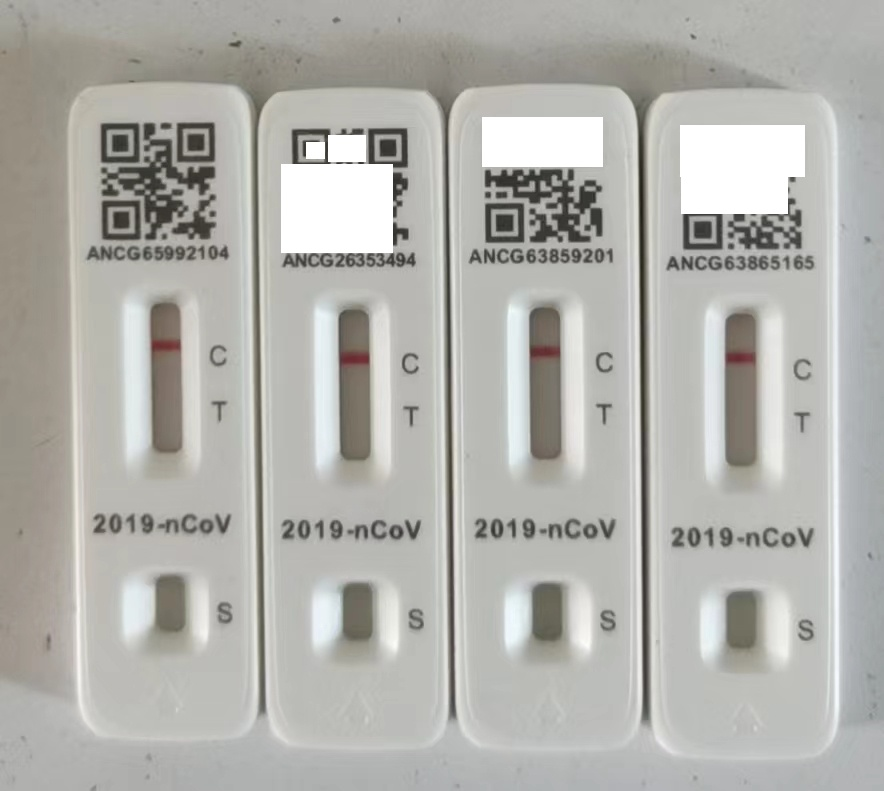negative: (706, 293, 778, 494), (315, 291, 389, 485), (511, 291, 580, 487), (135, 286, 197, 482)
